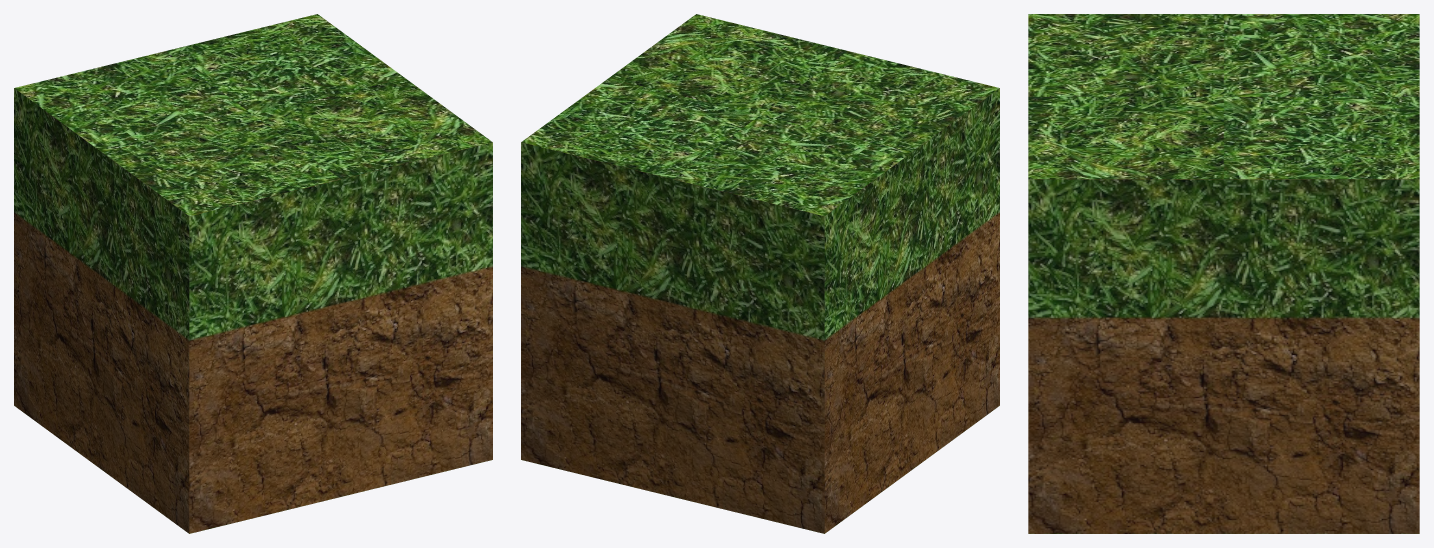
Rendered from GrassBlock.fbx.
The picture shows the model from 3 angles, left to right: view 1: azimuth 30°, elevation 25°; view 2: azimuth 150°, elevation 25°; view 3: azimuth 270°, elevation 25°; orthographic projection. The views are drawn at different scales.
Parts seen in each view (by area): view 1: Model; view 2: Model; view 3: Model.
Part boxes in pixels (<box>): Model: <box>14,14,492,533</box>; Model: <box>521,14,999,533</box>; Model: <box>1028,14,1419,533</box>.
Size of the model in its own units: 50 by 50 by 50.
Materials: 2 (2 with a texture image).
